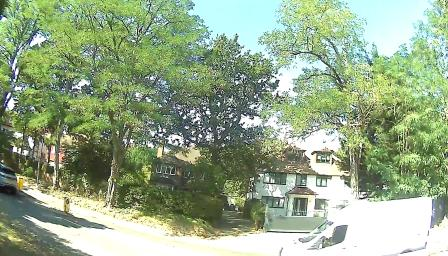Cars: (265, 196, 441, 256), (2, 161, 20, 195)
